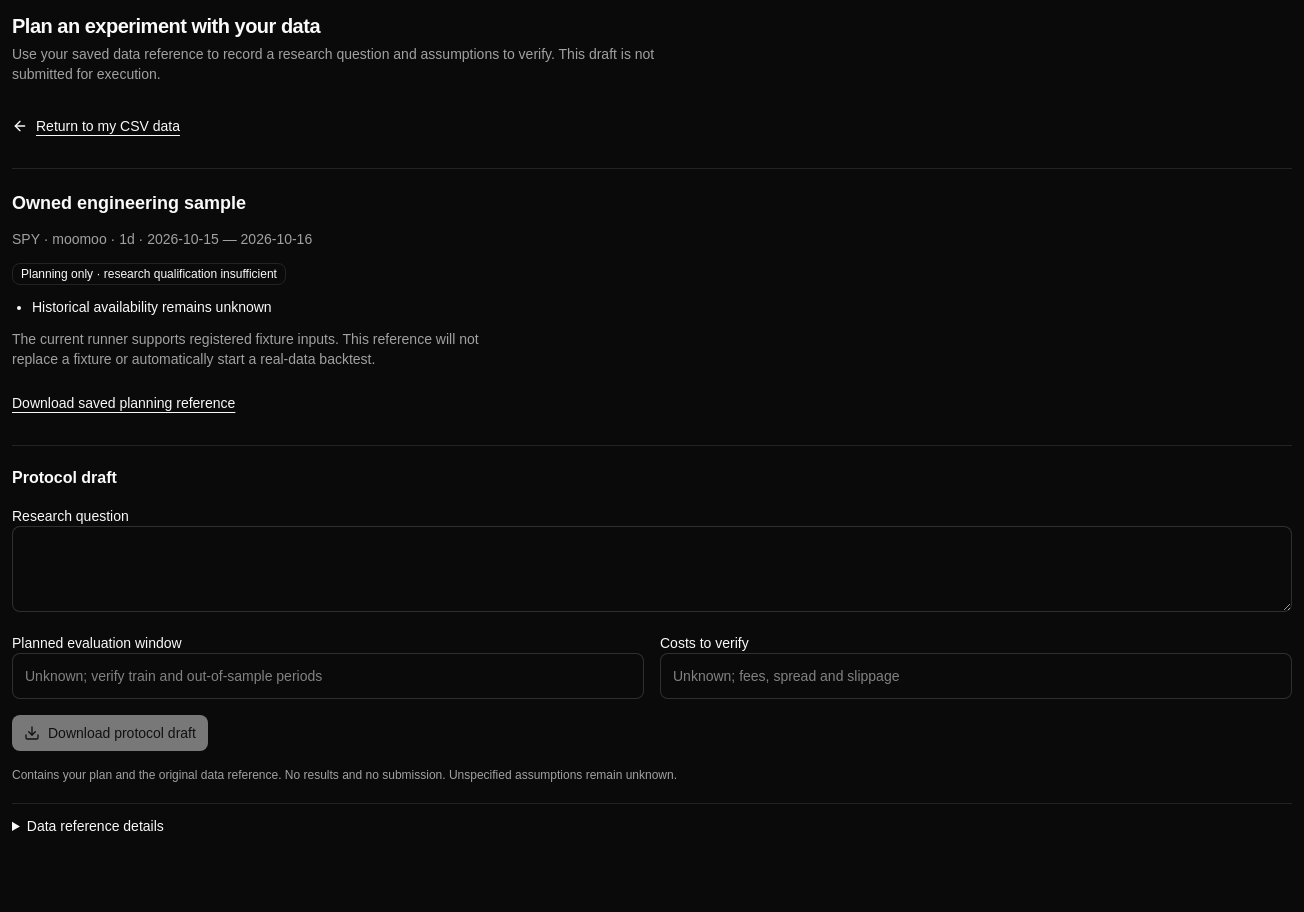
Test case: revalidates the chosen reference and keeps it out of fixture submission
Expected: the heading "Owned engineering sample" is shown, [12,193,246,213]
Expected: the list item "Historical availability remains unknown" is shown, [32,299,272,315]
Step 1. Type "Does this hypothesis survive realistic costs?" into the text box labelled "Research question" → (652, 569), box [12,526,1292,612]
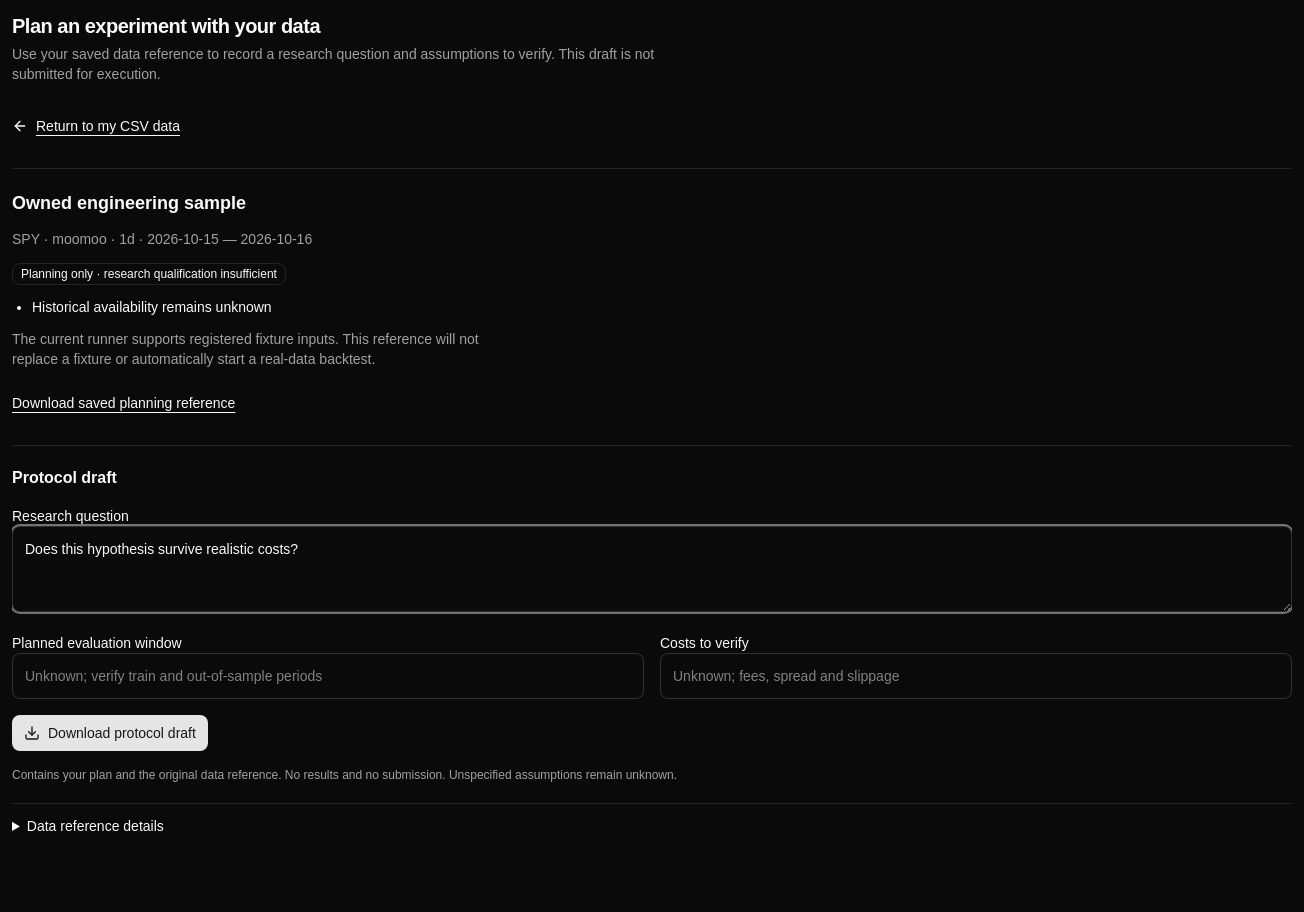
Result: the button "Download protocol draft" is enabled at [12,715,208,751]
